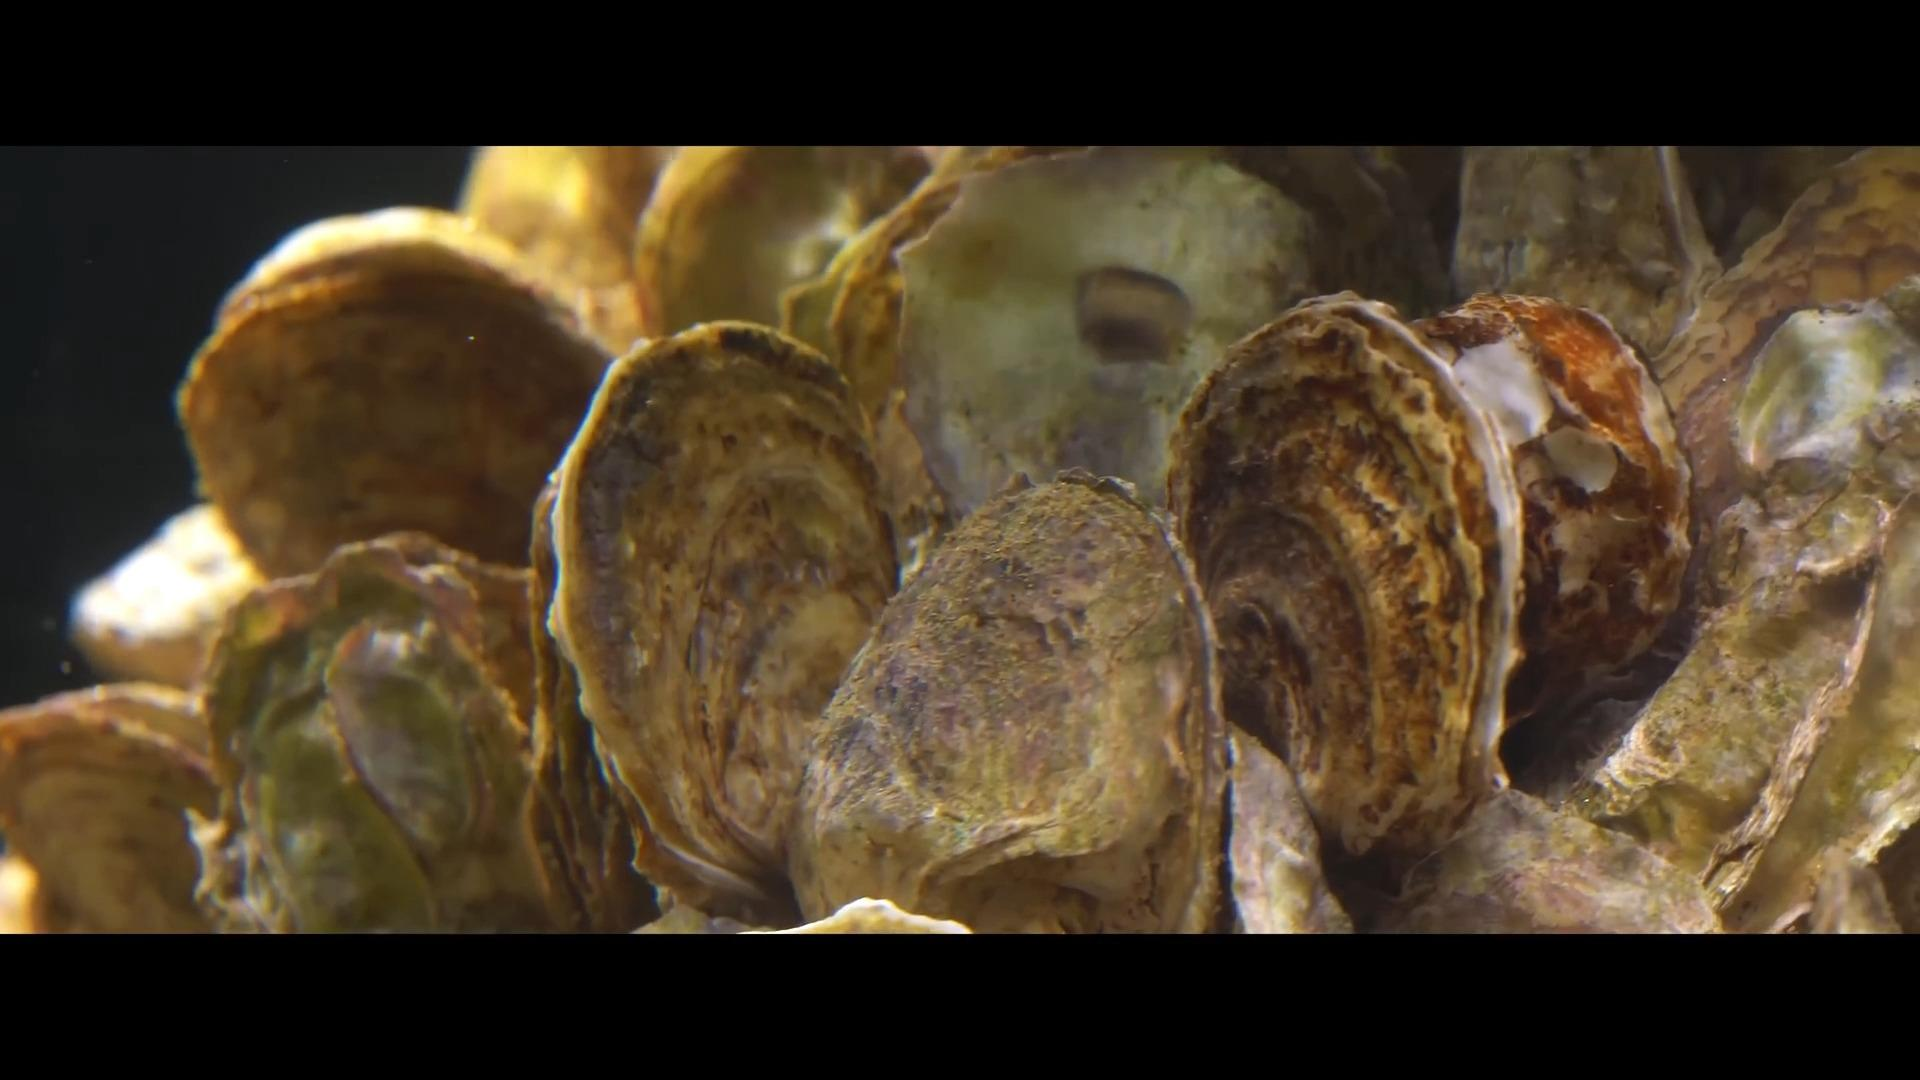Oyster: (1167, 293, 1691, 913), (1573, 287, 1916, 923), (534, 324, 890, 920), (791, 473, 1229, 932), (887, 148, 1379, 526), (177, 204, 613, 591), (199, 534, 596, 934), (1655, 152, 1920, 541), (637, 144, 931, 364), (1, 683, 232, 932), (1453, 146, 1717, 363), (69, 501, 260, 696)
